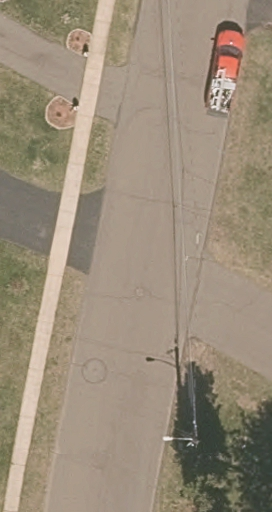DT: (160, 433, 202, 449)
